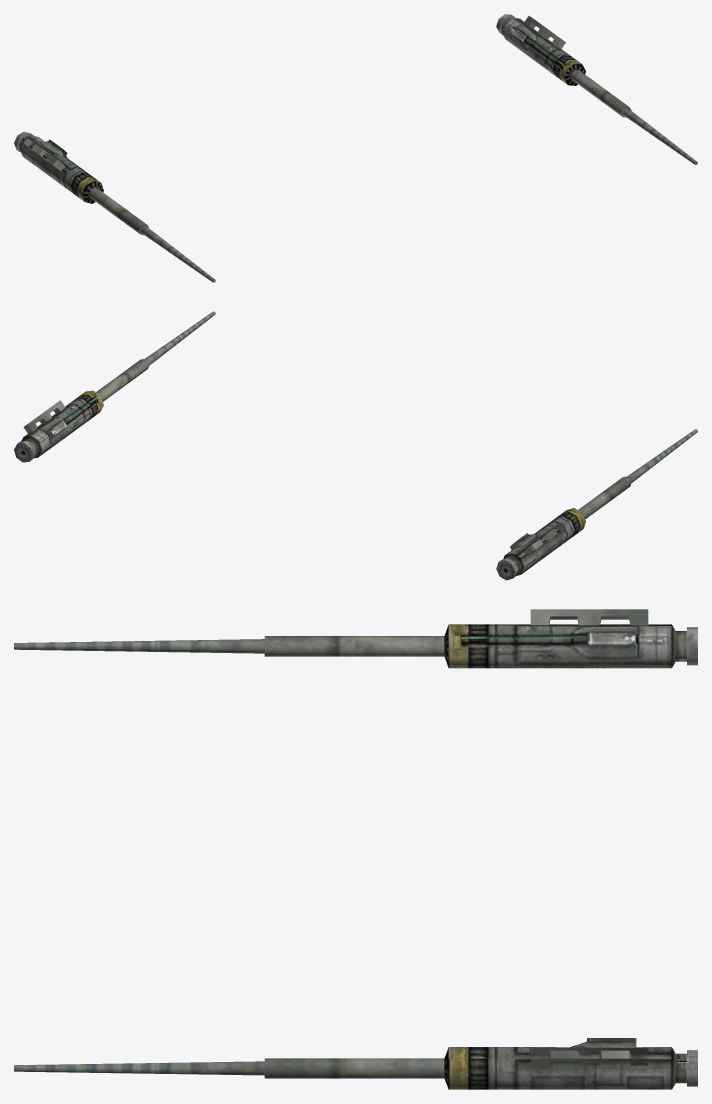
Rendered from hutt_fighter_medium_weapon1_s01_l0.fbx.
3 views of the same model, one above another, from view 1: azimuth 30°, elevation 25°; view 2: azimuth 150°, elevation 25°; view 3: azimuth 270°, elevation 25° (orthographic). The views are drawn at different scales.
Parts seen in each view (by area): view 1: mesh_node; view 2: mesh_node; view 3: mesh_node.
Part boxes in pixels (x1,y1,x2,y2): mesh_node: [14, 14, 697, 282]; mesh_node: [14, 311, 697, 580]; mesh_node: [14, 609, 697, 1089].
Size of the model in its own units: 13.8 by 0.7146 by 8.94.
